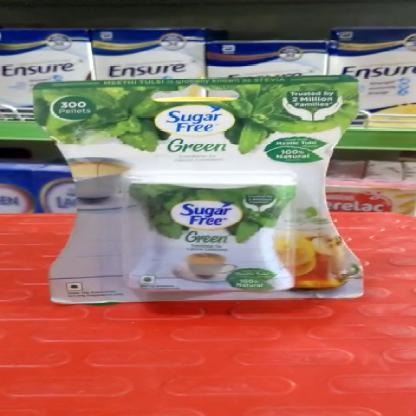SUGAR FREE GRN 300 PELLET: (36, 72, 362, 302)
